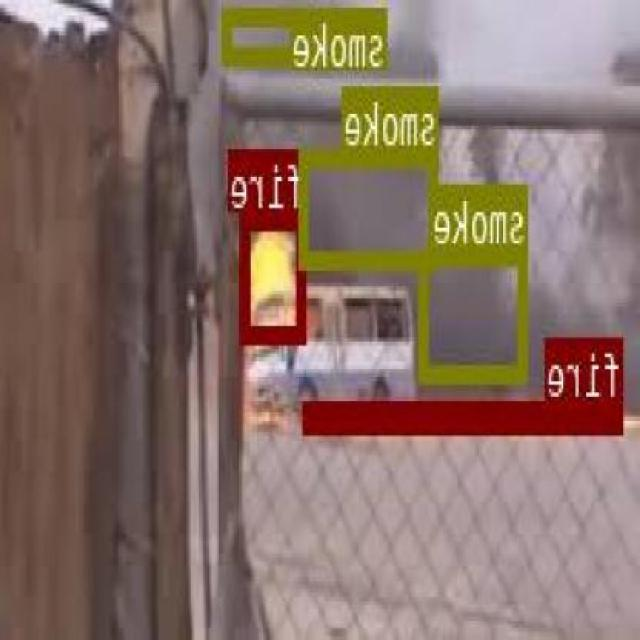Fire: (306, 398, 625, 430), (244, 210, 307, 338)
Smoke: (300, 149, 440, 265), (421, 246, 528, 377)
